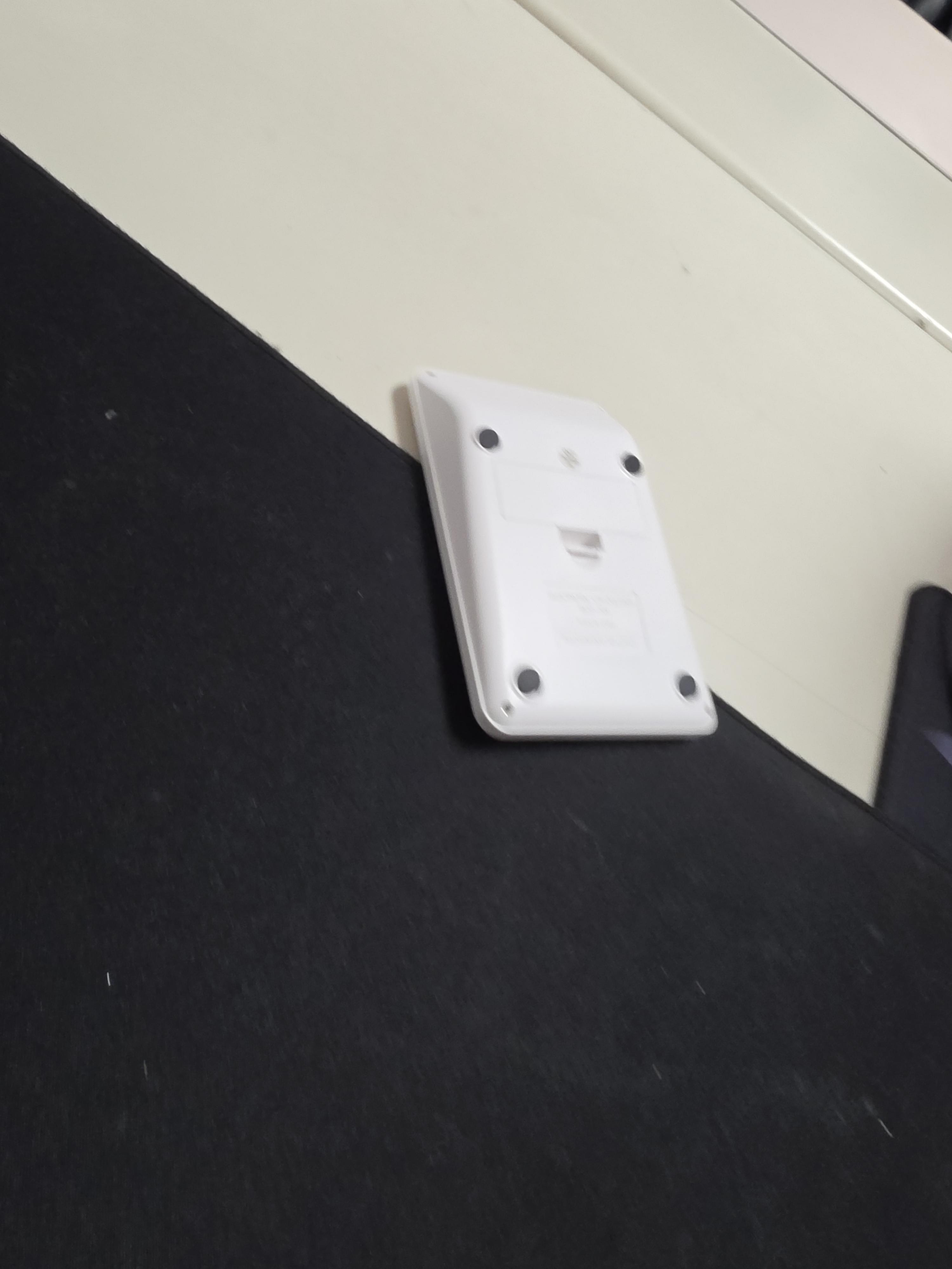calculator: (400, 366, 719, 744)
